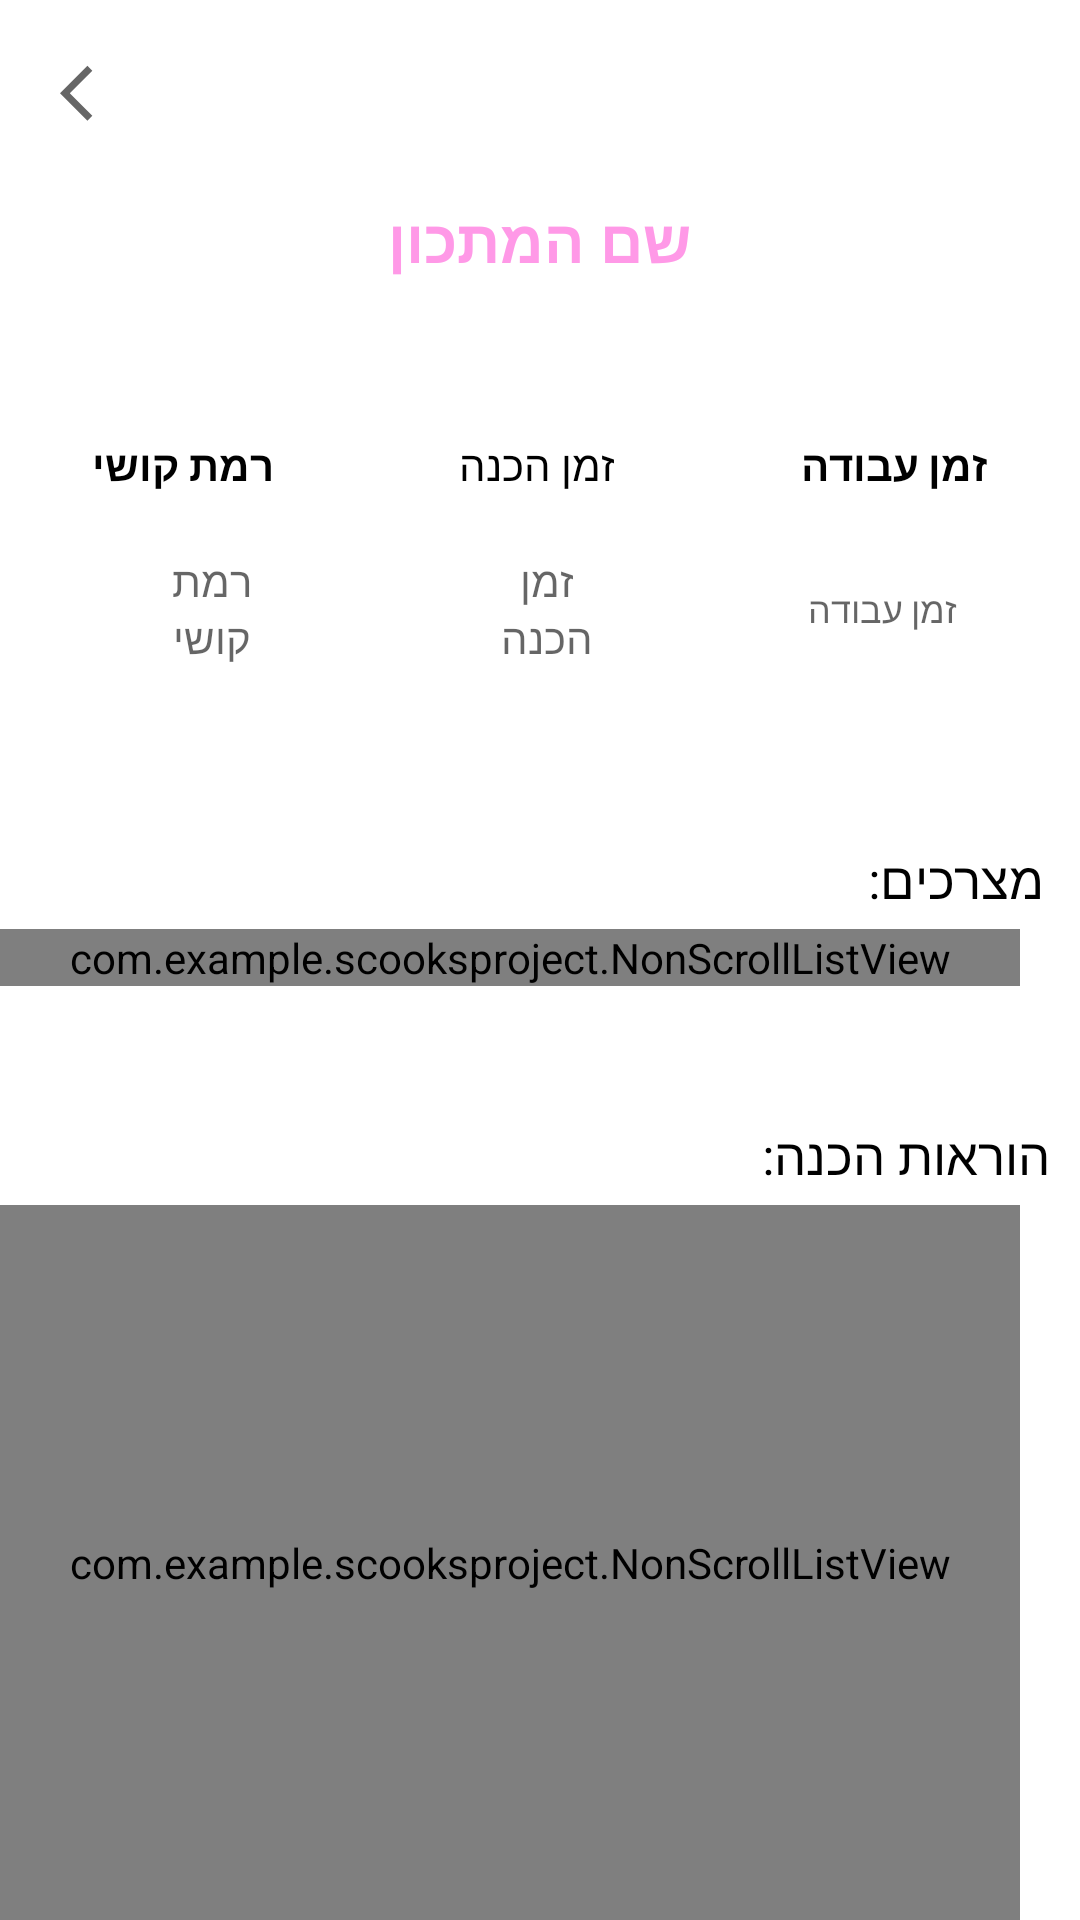

Where icons sit on this 1080x1920 app screen, as BBox(x1, y1, x2, y2):
arrow back: BBox(60, 66, 92, 121)
